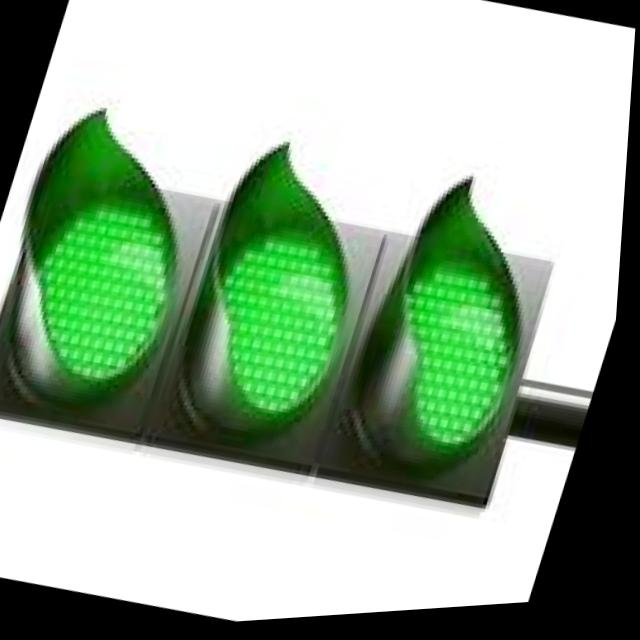green_light: (269, 167, 611, 557), (117, 124, 397, 505), (0, 144, 223, 503)
